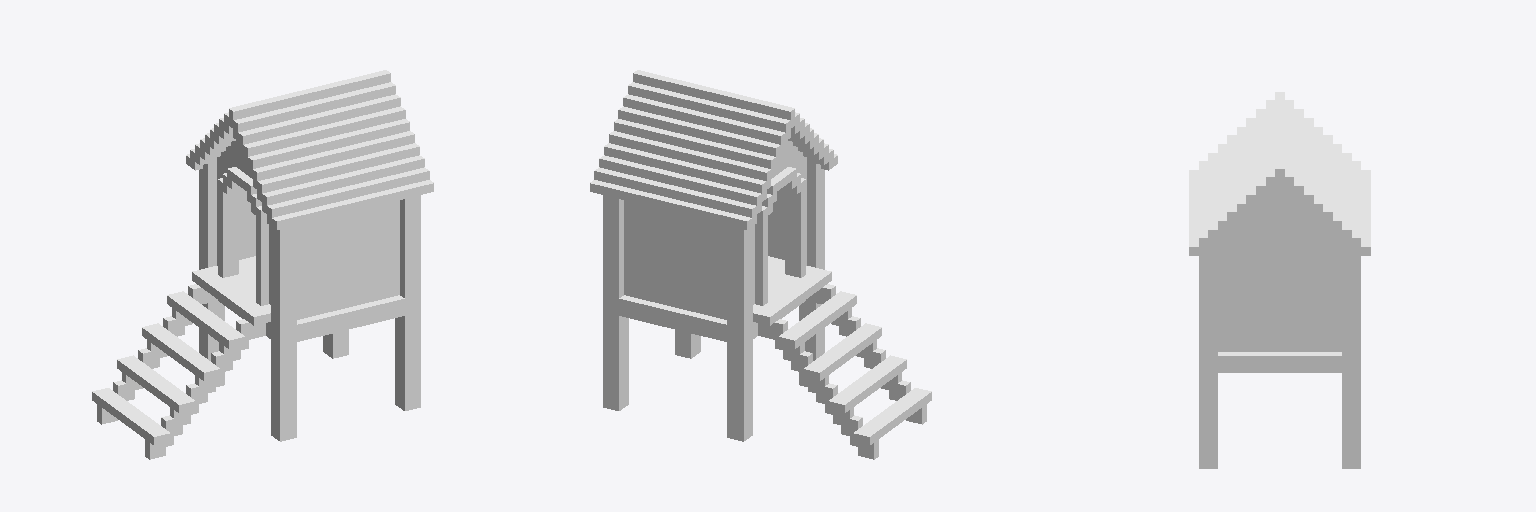
Rendered from Chicken_House.obj.
3 renders of one model, left to right at view 1: azimuth 30°, elevation 25°; view 2: azimuth 150°, elevation 25°; view 3: azimuth 270°, elevation 25°, orthographic.
Parts seen in each view (by area): view 1: Chicken_House; view 2: Chicken_House; view 3: Chicken_House.
Part boxes in pixels (x1,y1,x2,y2): Chicken_House: (92,70,433,459); Chicken_House: (590,70,931,459); Chicken_House: (1189,92,1370,468).
Size of the model in its own units: 32 by 35 by 19.